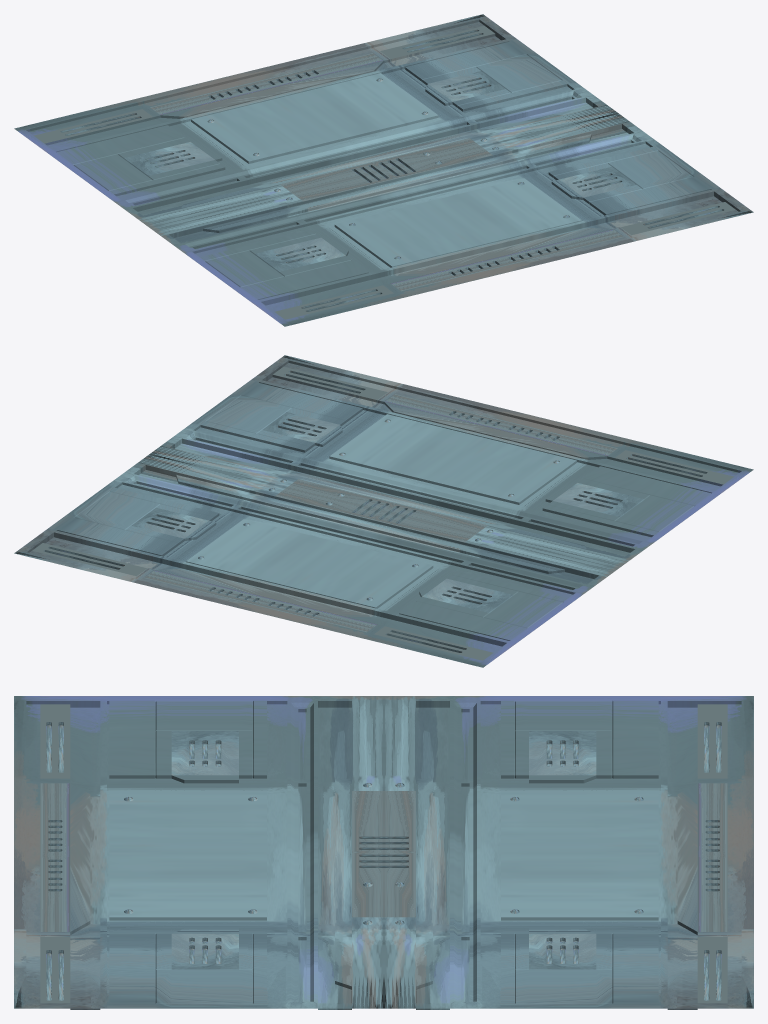
The model's file is LO_wall1.glb.
The picture shows the model from 3 angles, top to bottom: view 1: azimuth 30°, elevation 25°; view 2: azimuth 150°, elevation 25°; view 3: azimuth 270°, elevation 25°; orthographic projection. The views are drawn at different scales.
Visible parts, largest first — view 1: Plane018; view 2: Plane018; view 3: Plane018.
Part boxes in pixels (x1,y1,x2,y2): Plane018: [14, 14, 753, 326]; Plane018: [14, 355, 753, 667]; Plane018: [14, 696, 753, 1009].
Bounding box in the file's own units: 4 × 0.053 × 4.
Materials: 1 (1 with a texture image).
